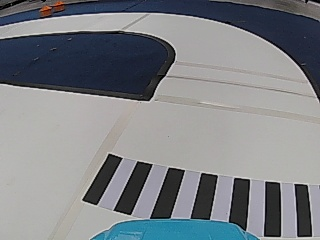CrossWalk: (84, 155, 319, 227)
